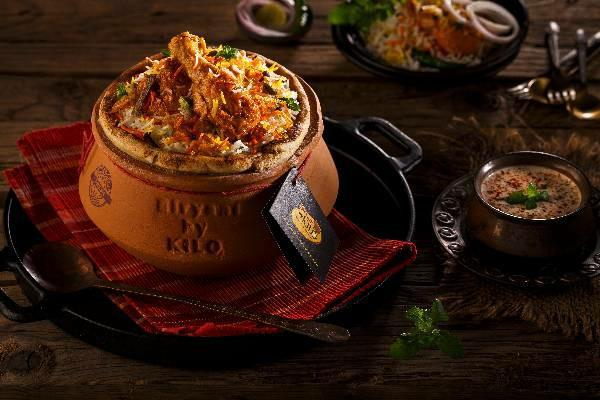Biryani: (104, 31, 302, 155)
